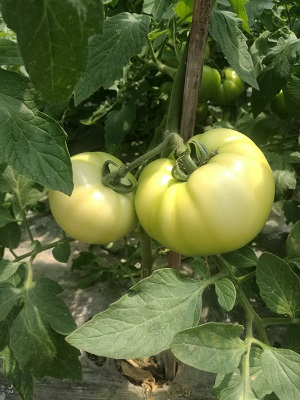immature-tomato: (142, 130, 272, 255), (69, 151, 142, 248)
